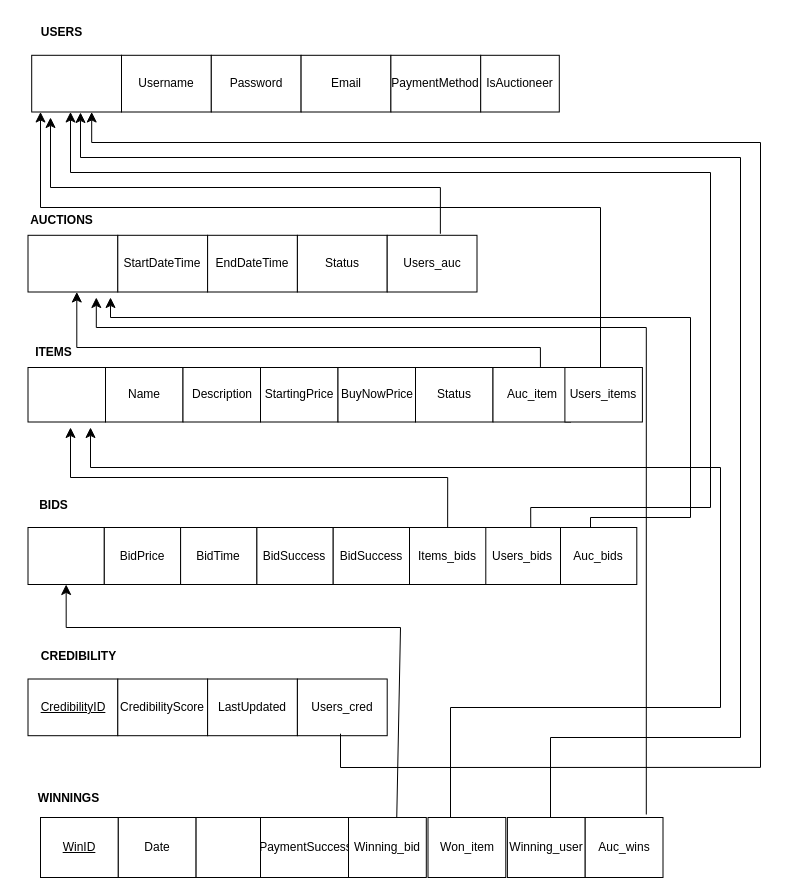
The diagram is 789 pixels wide and 895 high, and some of its shapes have lost their labels. Each missing label, with the centre of its shape:
AuctionID: point 72,263
BidID: point 65,555
ItemID: point 66,394
Satisfied: point 227,847
UserID: point 76,83
